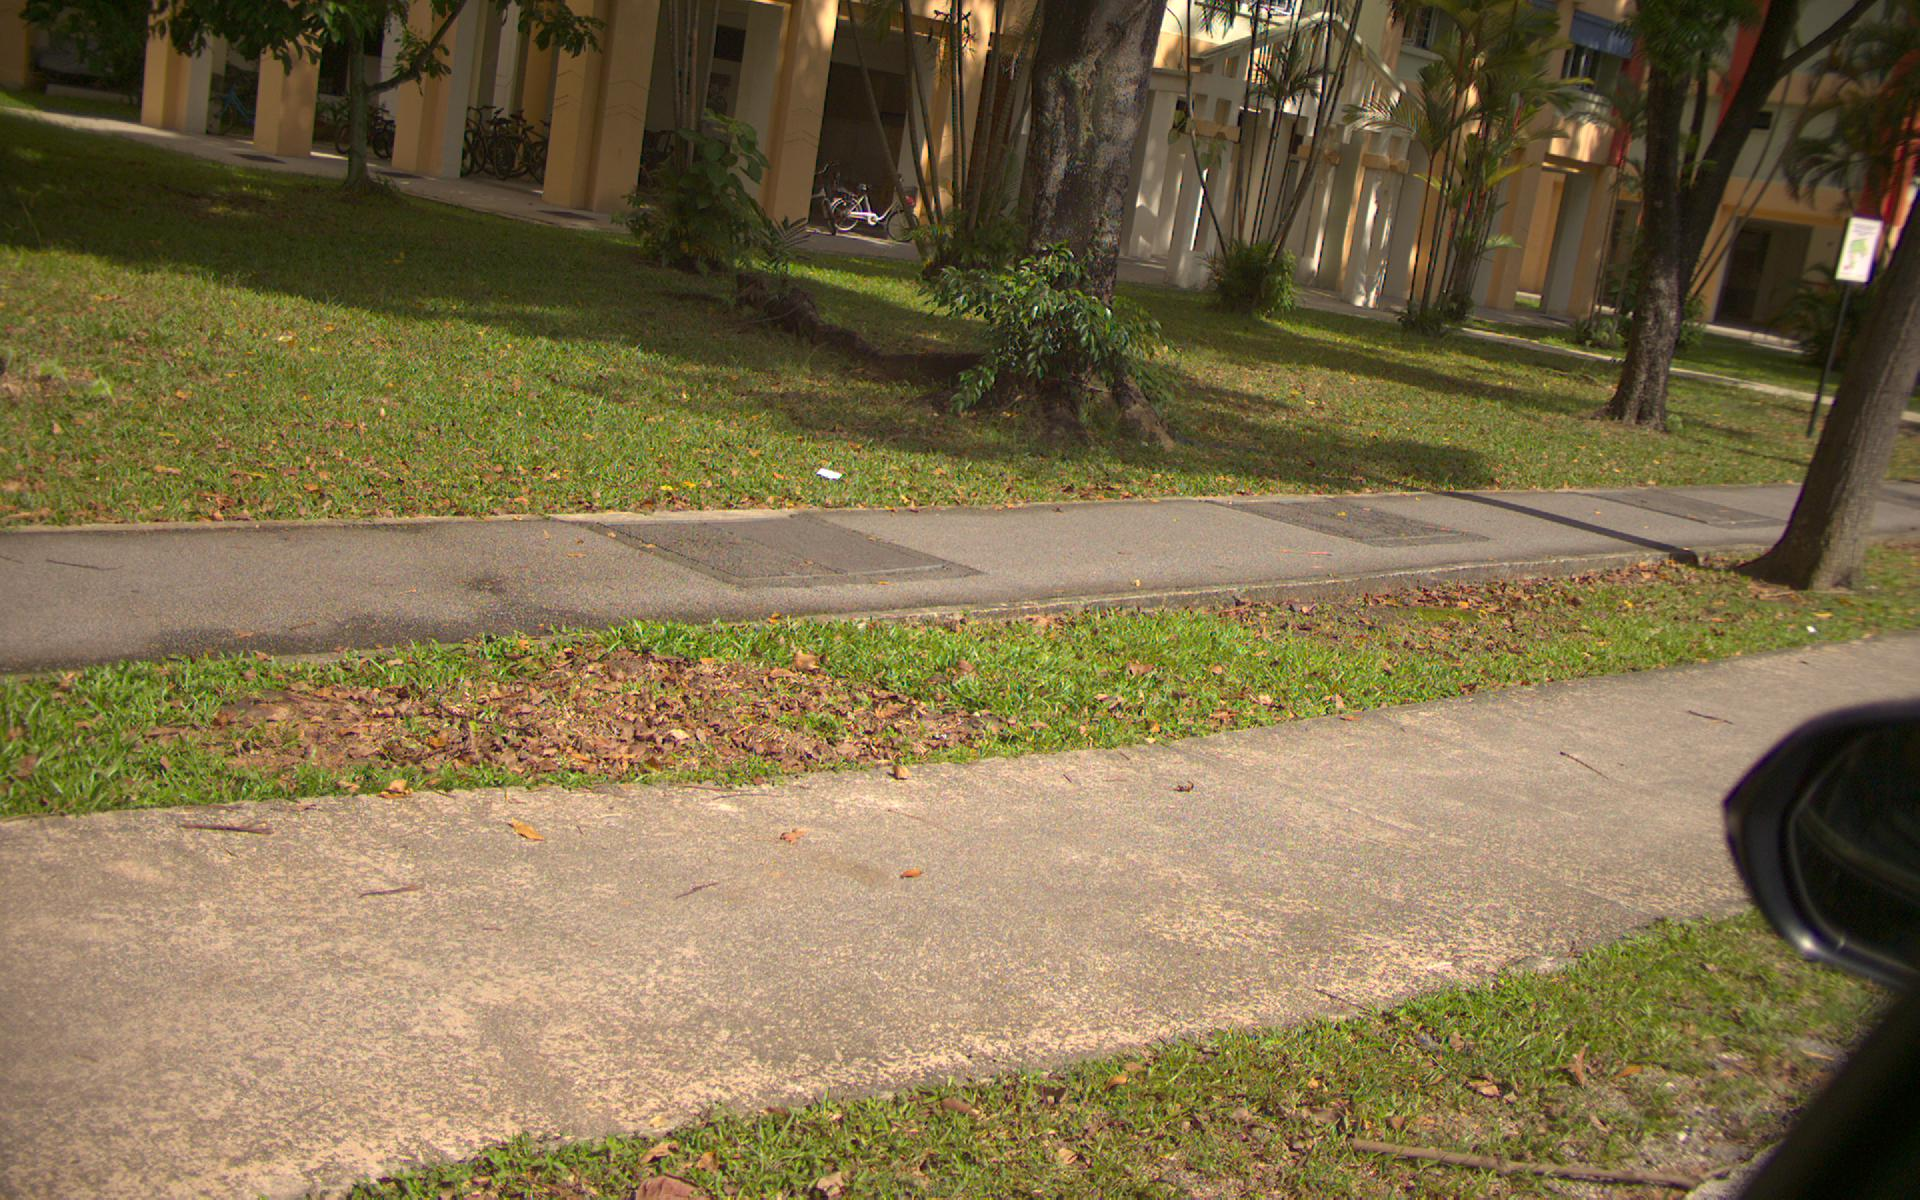pathway_low: (6, 845, 506, 1163), (1, 527, 612, 621)
road_turf_low: (4, 301, 1920, 488), (442, 648, 1269, 724), (1, 677, 310, 799)
